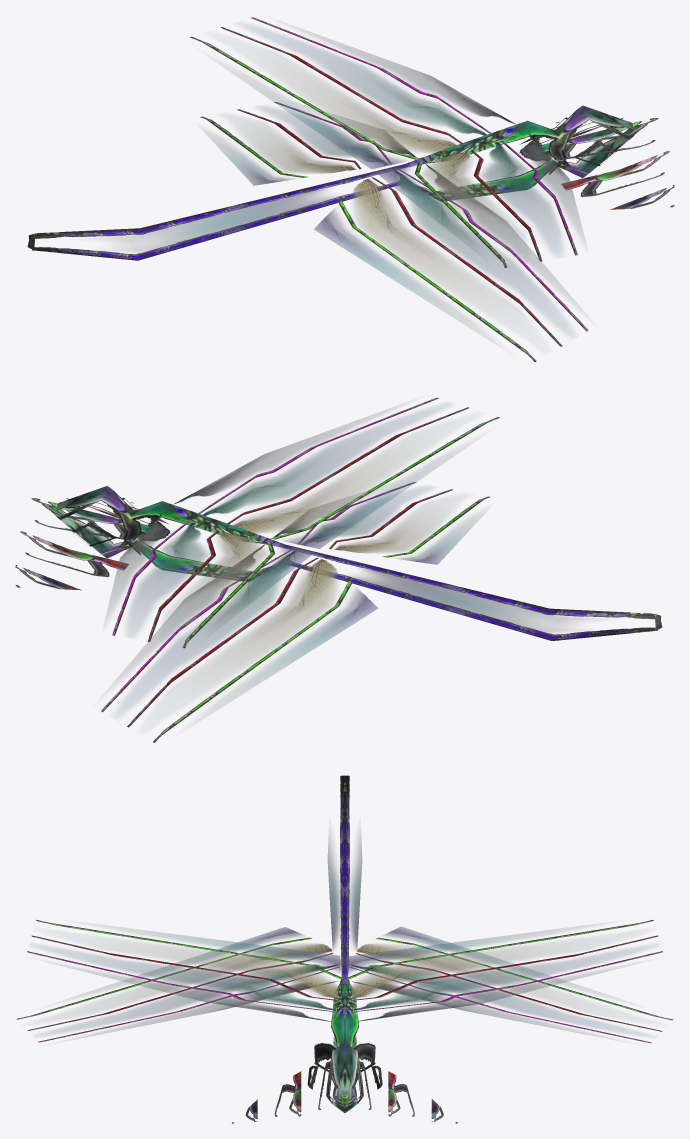
3 renders of one model, top to bottom at view 1: azimuth 30°, elevation 25°; view 2: azimuth 150°, elevation 25°; view 3: azimuth 270°, elevation 25°, orthographic. The views are drawn at different scales.
Parts seen in each view (by area): view 1: SM_Dragonfly_01_LOD0; view 2: SM_Dragonfly_01_LOD0; view 3: SM_Dragonfly_01_LOD0.
Part boxes in pixels (<box>): SM_Dragonfly_01_LOD0: <box>27,17,674,361</box>; SM_Dragonfly_01_LOD0: <box>15,397,662,742</box>; SM_Dragonfly_01_LOD0: <box>16,775,673,1123</box>.
Bounding box in the file's own units: 0.1619 × 0.0222 × 0.1464.
1 material, 1 textured.
